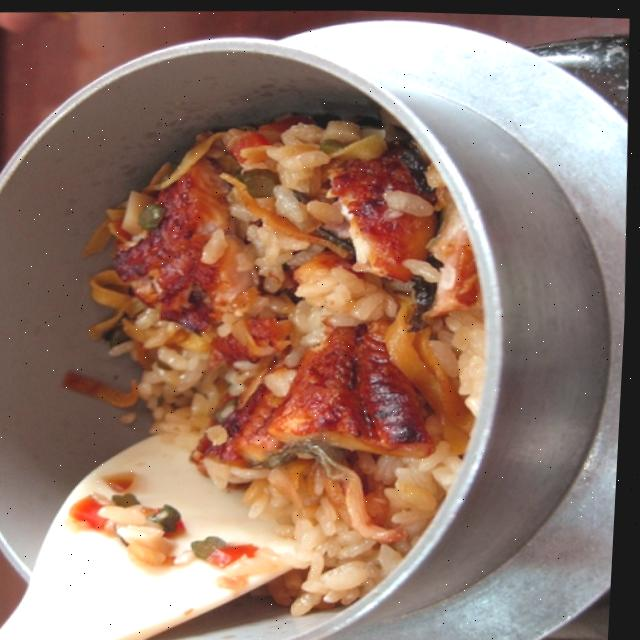熟制海鲜: (194, 203, 488, 480)
